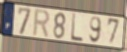7: (17, 6, 32, 37), (107, 17, 122, 47)
8: (52, 11, 67, 40)
9: (89, 17, 103, 45)
L: (70, 13, 84, 43)
R: (32, 8, 52, 40)
